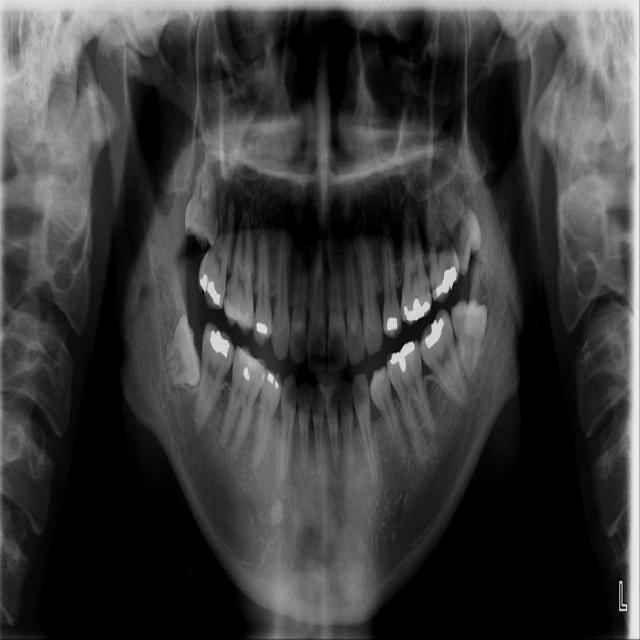Filling: (389, 341, 415, 373), (424, 317, 445, 348), (436, 266, 457, 296), (404, 298, 429, 321), (211, 330, 229, 359), (207, 281, 221, 306), (387, 315, 397, 333), (199, 274, 208, 294), (256, 322, 268, 334), (243, 367, 250, 381), (267, 371, 273, 383), (275, 381, 279, 388)
Periapical lesion: (185, 411, 205, 450), (215, 423, 236, 453)
impacted tooth: (436, 179, 481, 277), (183, 157, 220, 247), (450, 301, 490, 384)
